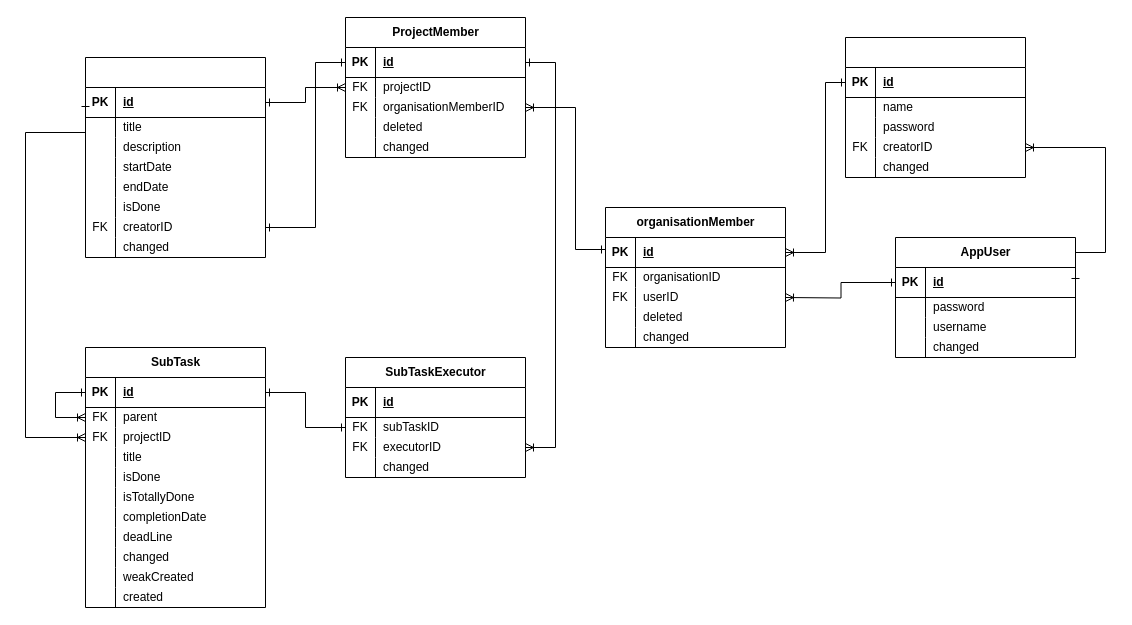
The diagram is 1132 pixels wide and 625 high, and some of its shapes have lost their labels. The box of each missing label's shape, as (x1, y1, x2, y2) in pixels:
Organisation: (844, 36, 1026, 178)
Project: (84, 56, 266, 258)
